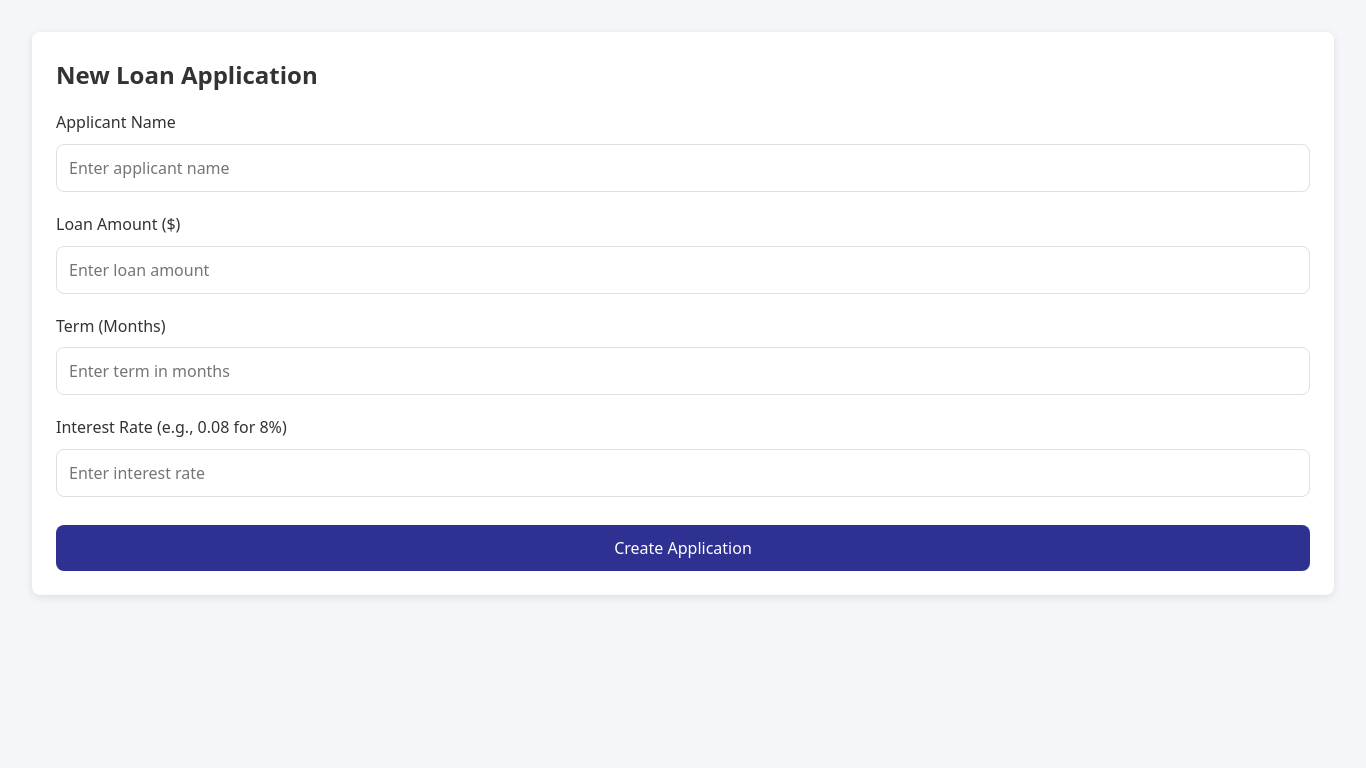
Test: LoanForm.vue › shows error when amount is zero
Type "John Doe" into the field with id "applicantName". click: (683, 168)
box: x1=56 y1=144 x2=1310 y2=192
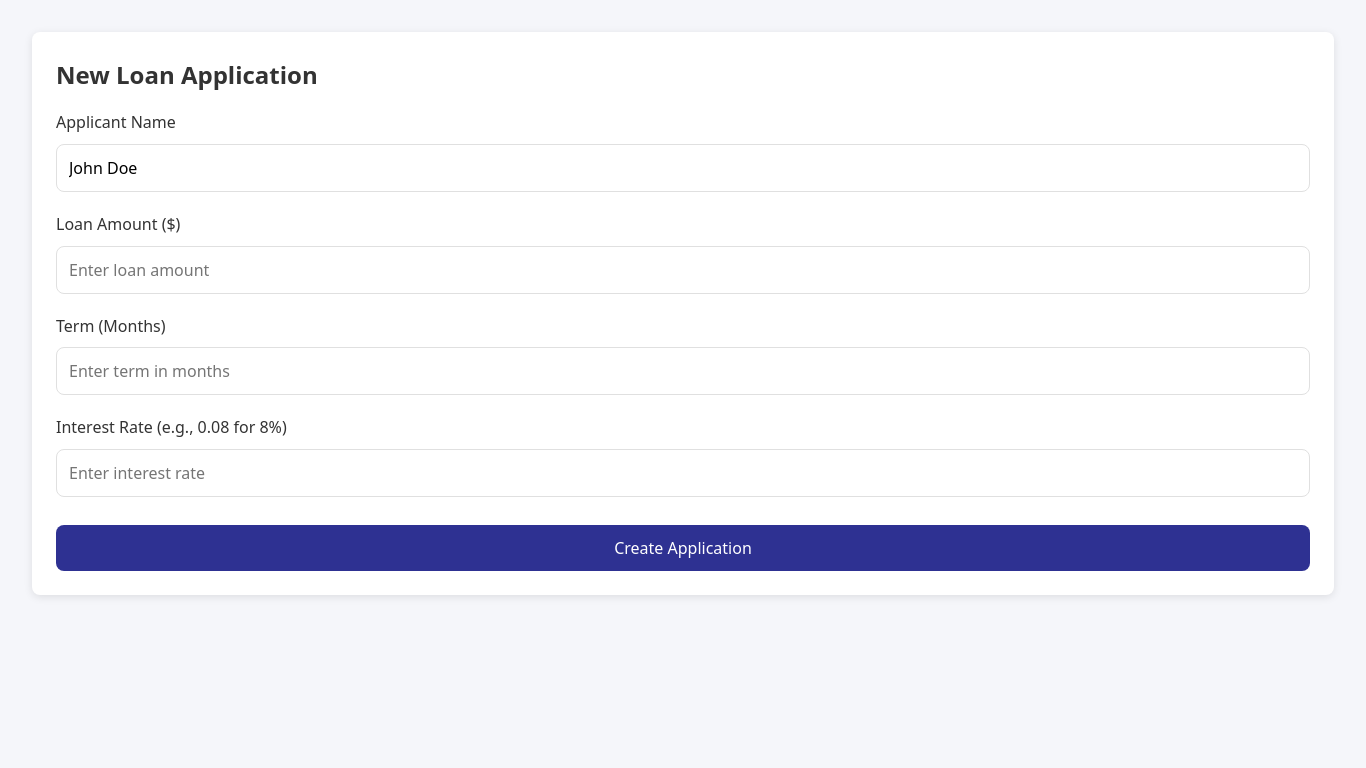
Type "0" into the number field with id "amount". click: (683, 270)
box: x1=56 y1=246 x2=1310 y2=294
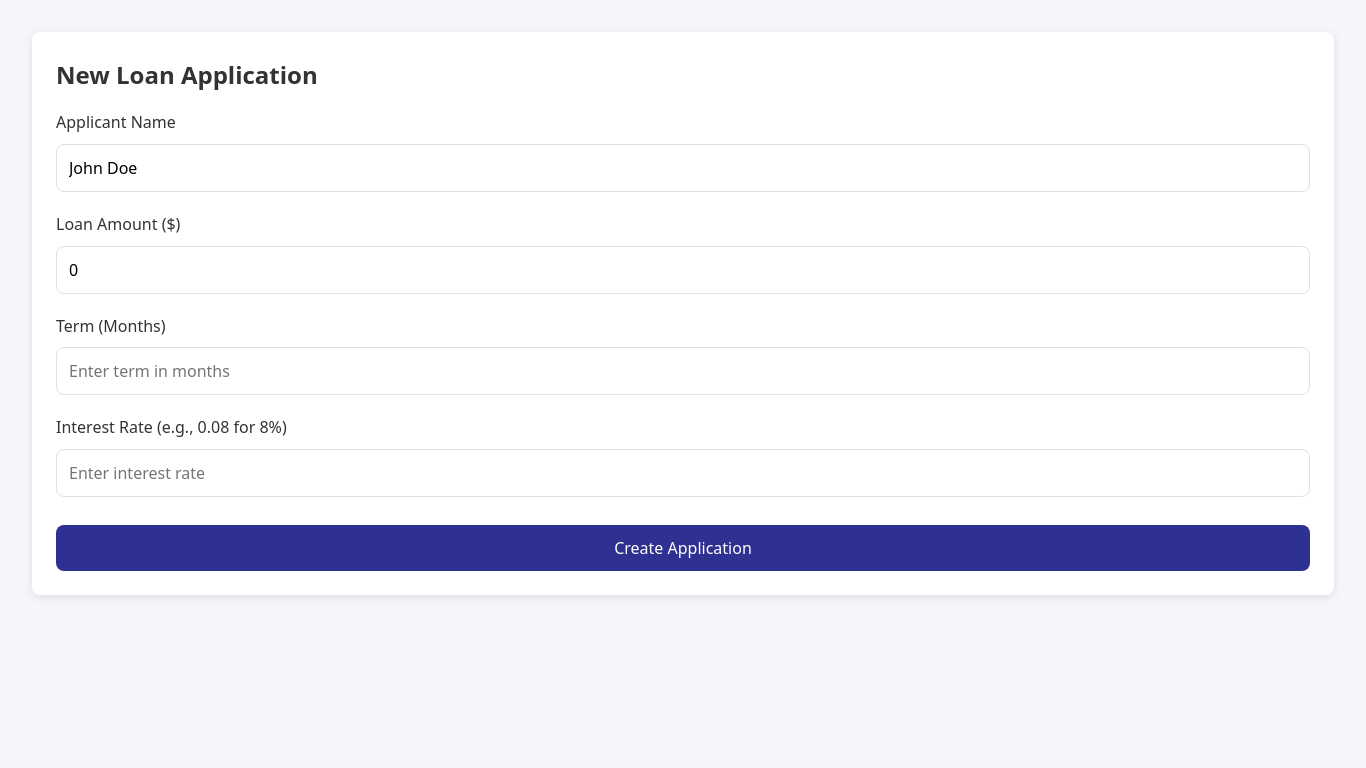
Submit the form, box x1=56 y1=110 x2=1310 y2=571
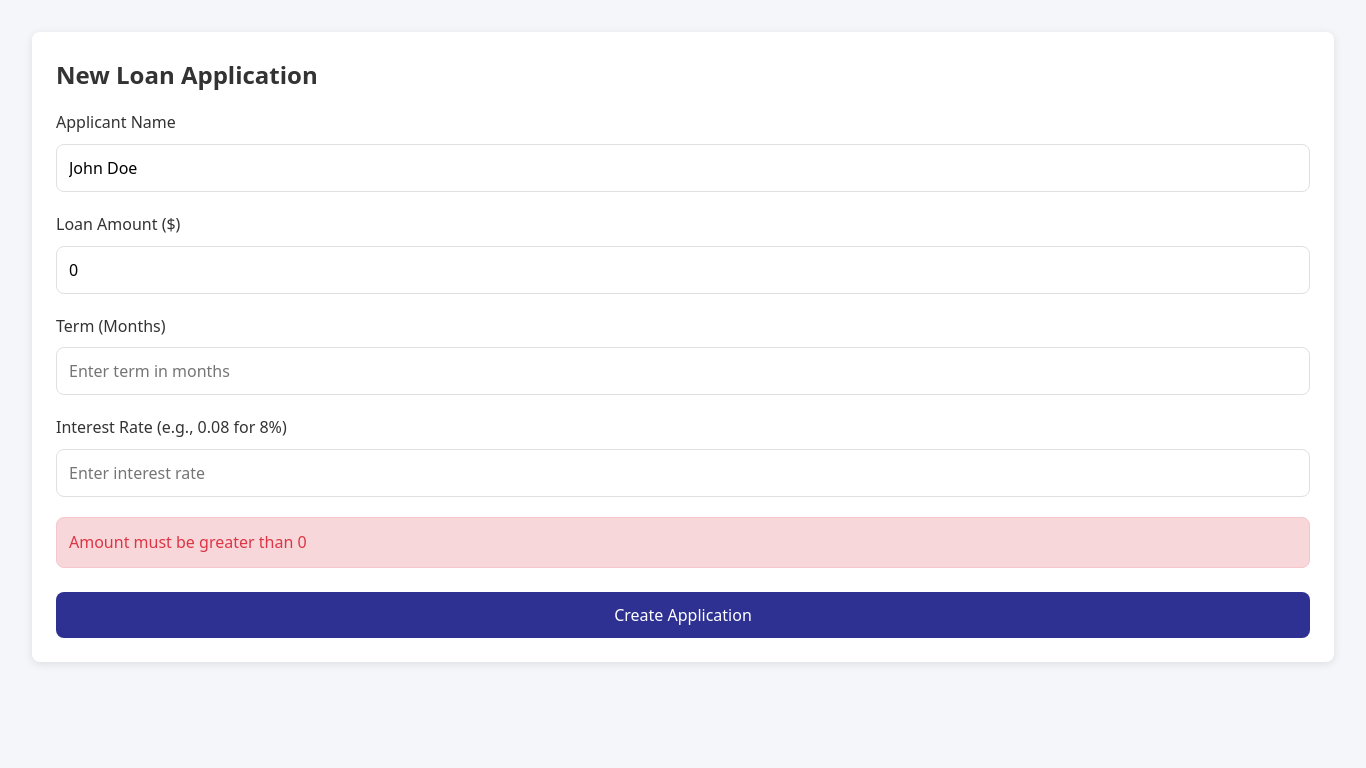
Check: the text with class "error-message" reads "Amount must be greater than 0", box x1=69 y1=531 x2=307 y2=553
